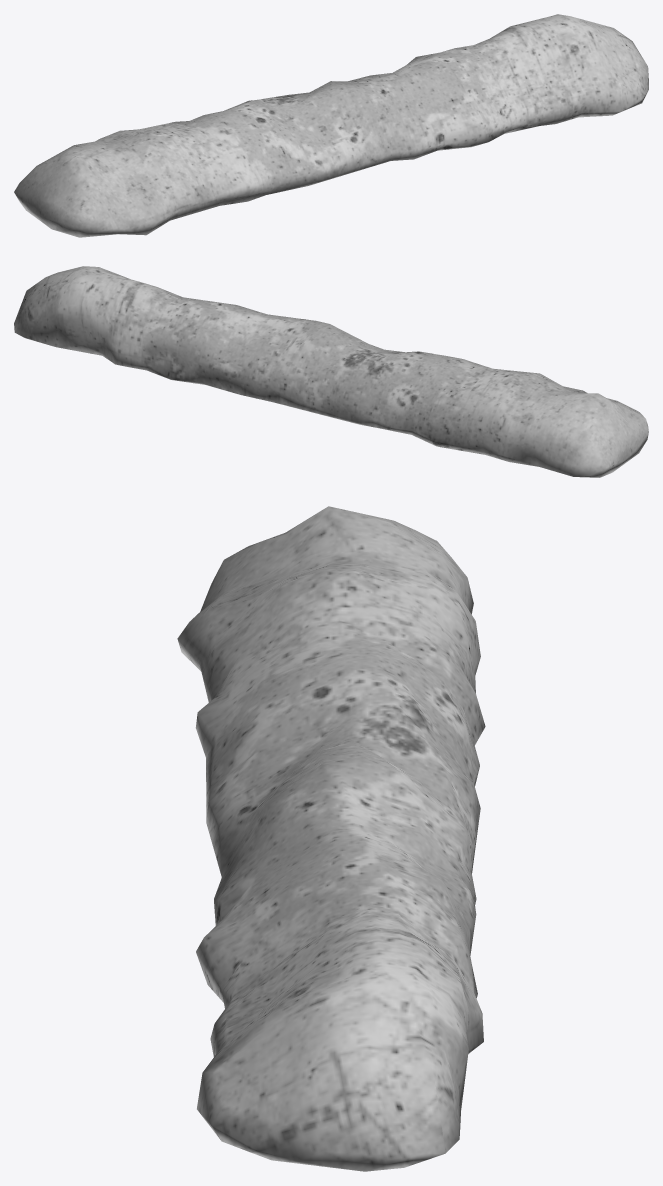
The model's file is SM_Snow_Pile_01b.fbx.
The picture shows the model from 3 angles, top to bottom: view 1: azimuth 30°, elevation 25°; view 2: azimuth 150°, elevation 25°; view 3: azimuth 270°, elevation 25°; orthographic projection. The views are drawn at different scales.
Parts seen in each view (by area): view 1: SM_Snow_Pile_01b_LOD0; view 2: SM_Snow_Pile_01b_LOD0; view 3: SM_Snow_Pile_01b_LOD0.
Boxes of the visible parts, <box> form: SM_Snow_Pile_01b_LOD0: <box>14,14,648,237</box>; SM_Snow_Pile_01b_LOD0: <box>14,266,648,477</box>; SM_Snow_Pile_01b_LOD0: <box>177,506,485,1171</box>.
Size of the model in its own units: 214 by 47.27 by 22.5.
